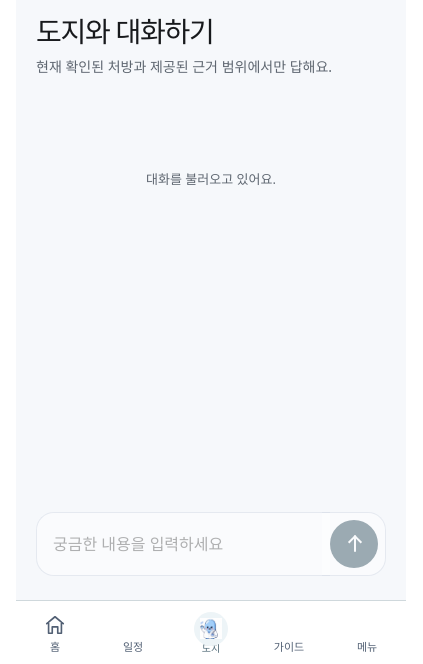
ChatPage › 사용자 메시지를 전송하고 실제 AI 응답 content를 표시한다
(page scrolled)
In the text box named "복약 질문": coordinates (183, 544) [36,512,330,576], type "이 약은 언제 먹나요?"
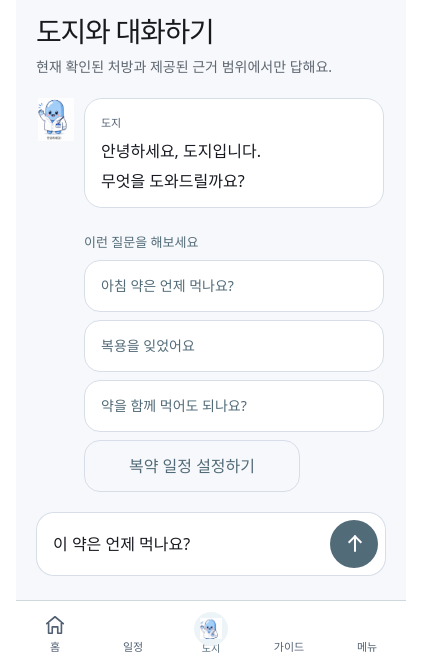
Click the button named "질문 전송": coordinates (354, 544) [322,512,386,576]
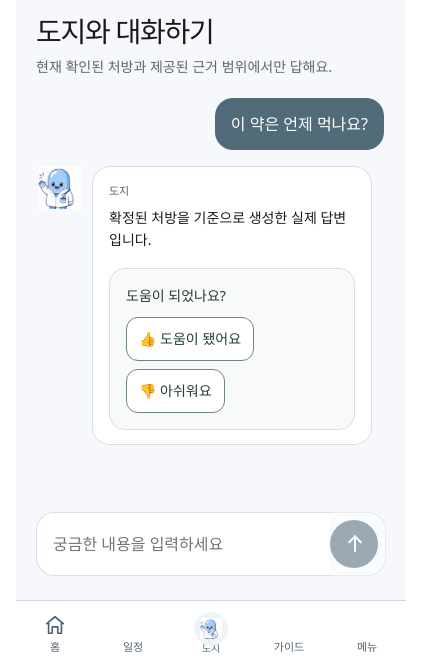
Now the text "이 약은 언제 먹나요?" is shown once, box [215,98,384,150]
Now the text "확정된 처방을 기준으로 생성한 실제 답변입니다." is shown once, box [109,207,355,252]
